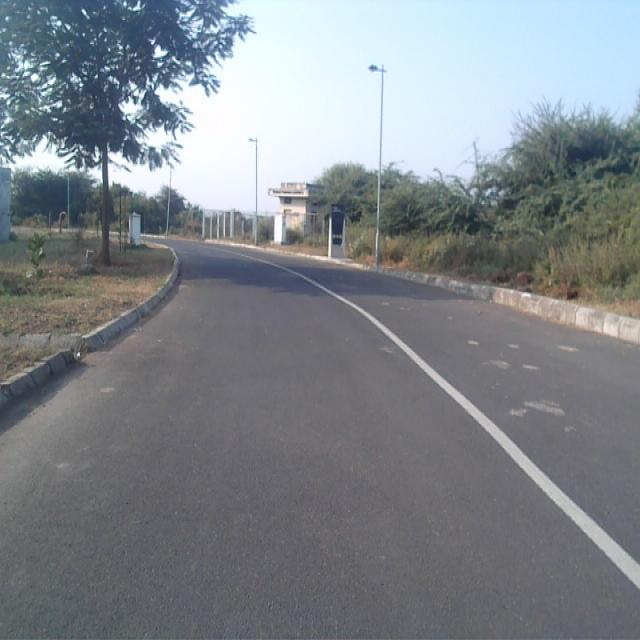lane: (0, 249, 640, 640)
